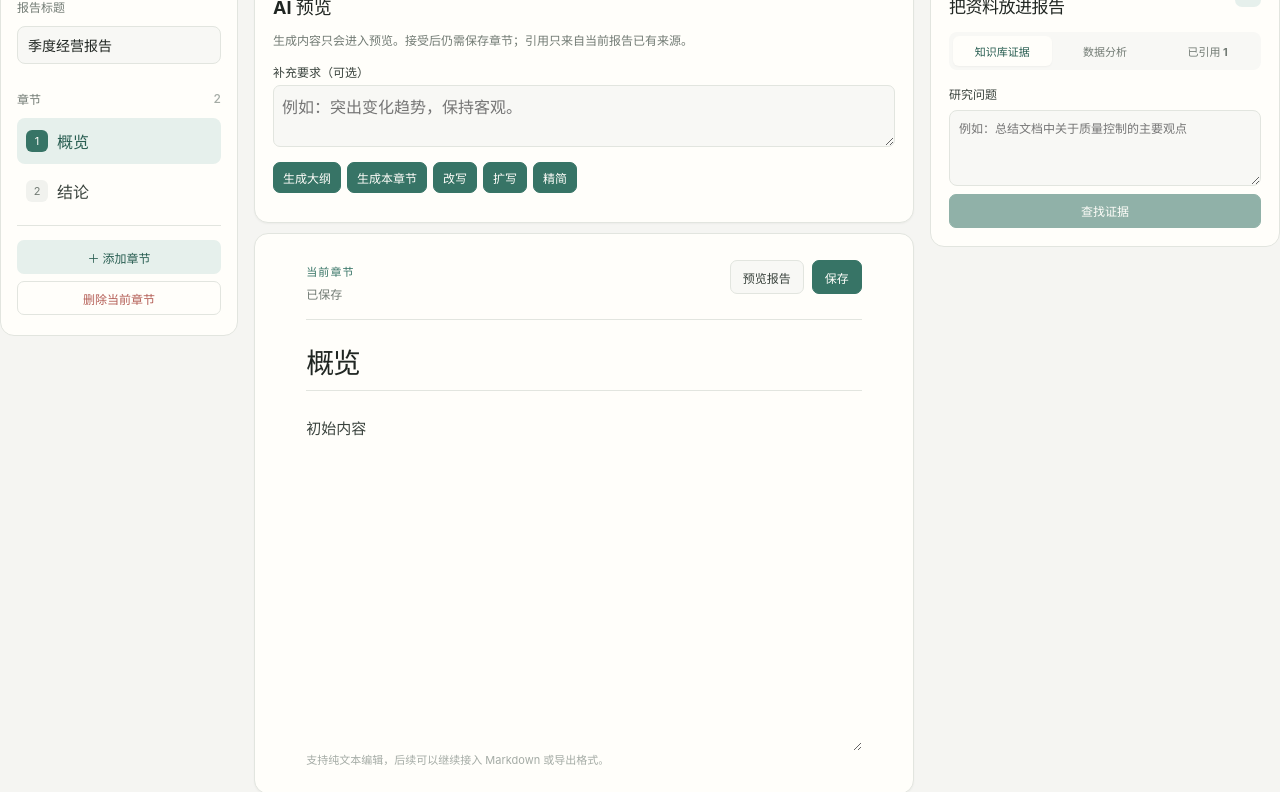
Test: ReportWorkspaceView › loads a persisted report, saves the active section, and previews sources
(page scrolled)
Replace the text in the text box with class "report-editor__textarea" with "已补充结论". click: (584, 571)
box: [306,391,862,751]
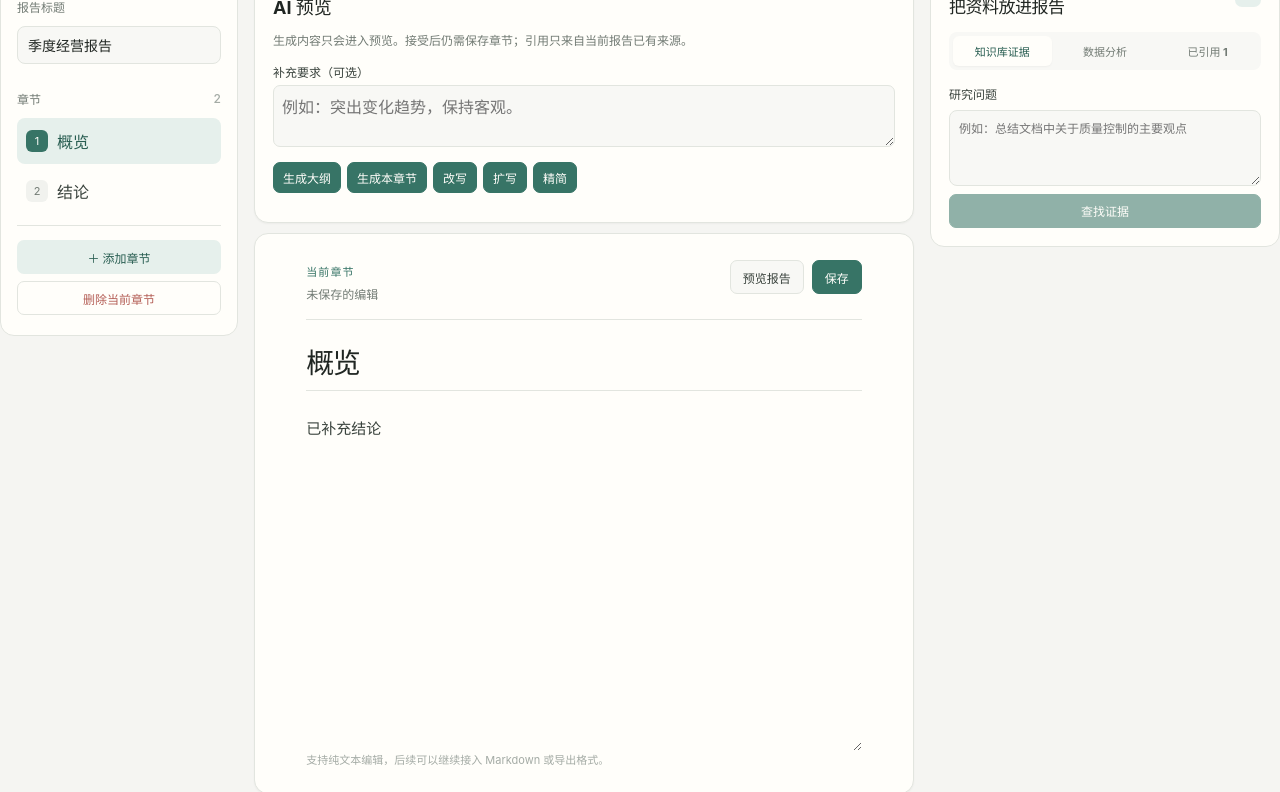
Click the button with class "report-editor__save". click: (837, 277)
box: [812,260,862,294]
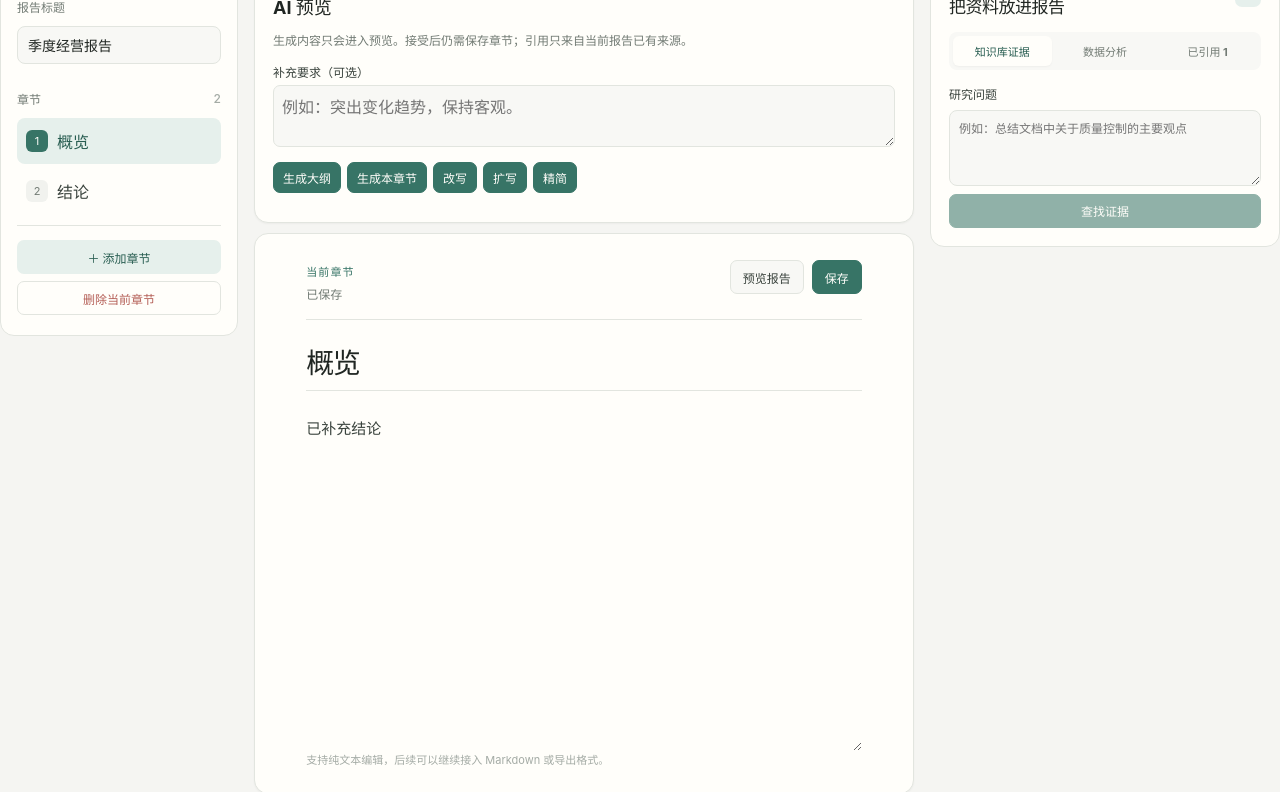
Check: the text "已保存" is shown, box [306,287,342,302]
Click the button with class "report-editor__preview". click: (767, 277)
box: [730,260,804,294]
(page scrolled)
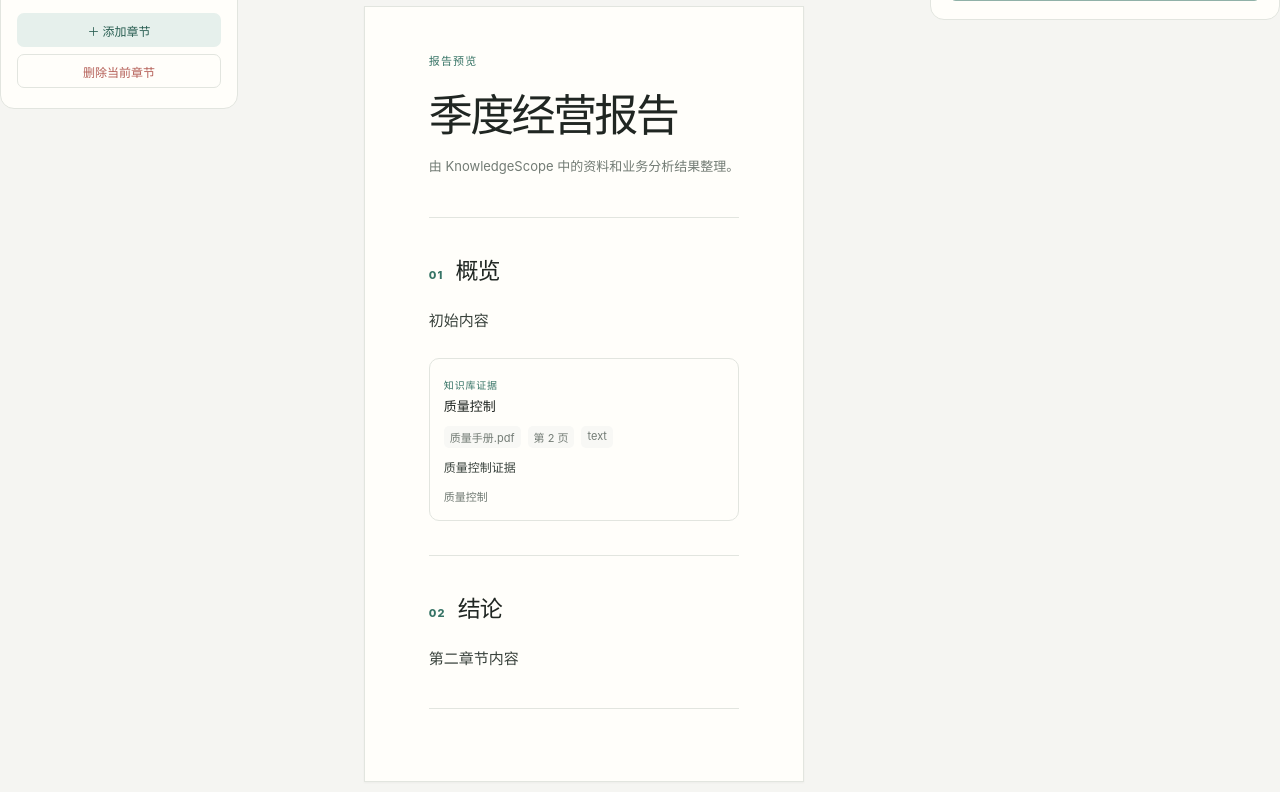
Check: the element with class "report-preview" is shown, box [364,6,804,782]
Check: the text "质量手册.pdf" is shown, box [444,426,521,448]
